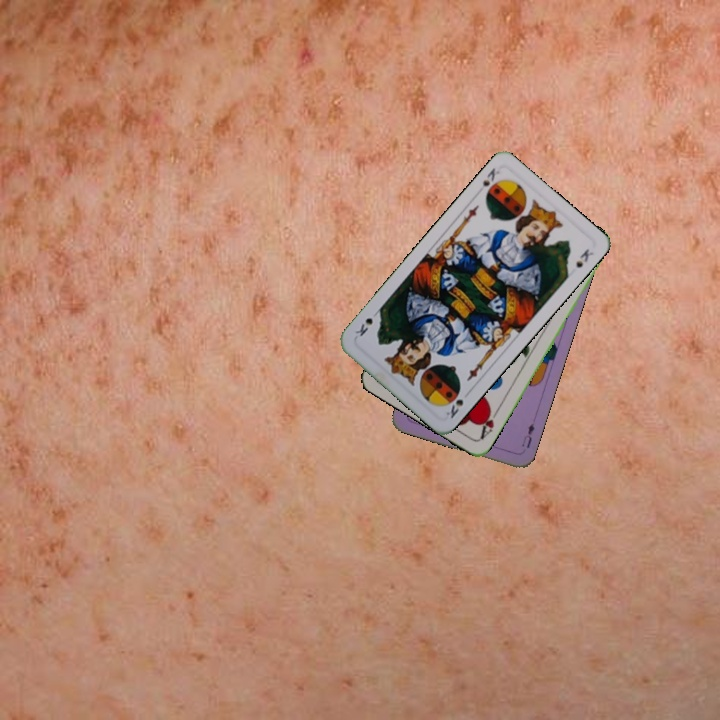EU: (518, 419, 537, 451)
HA: (476, 404, 501, 442)
SK: (478, 163, 503, 200), (442, 395, 466, 421)
